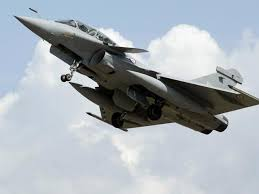fighter: (10, 5, 258, 139)
